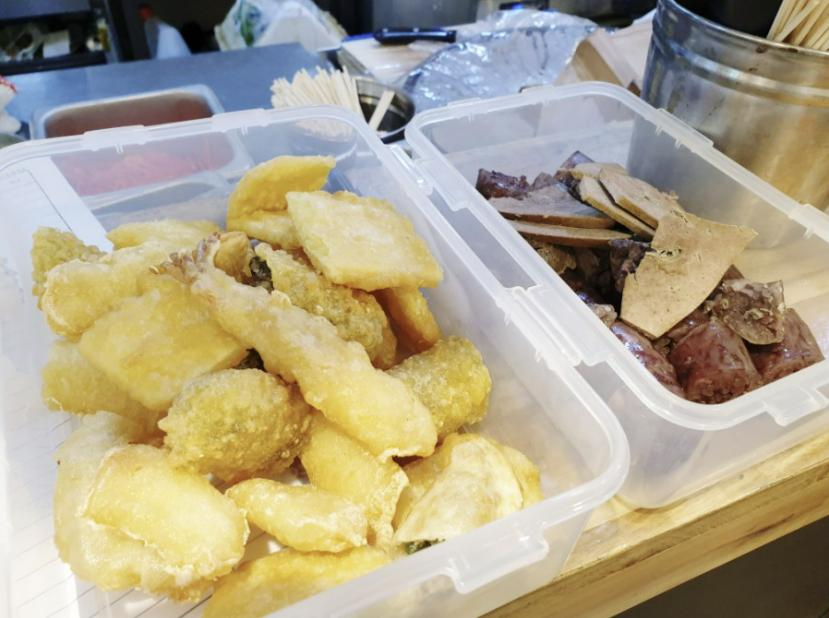Lunch Box: (0, 108, 628, 617), (405, 82, 828, 507)
